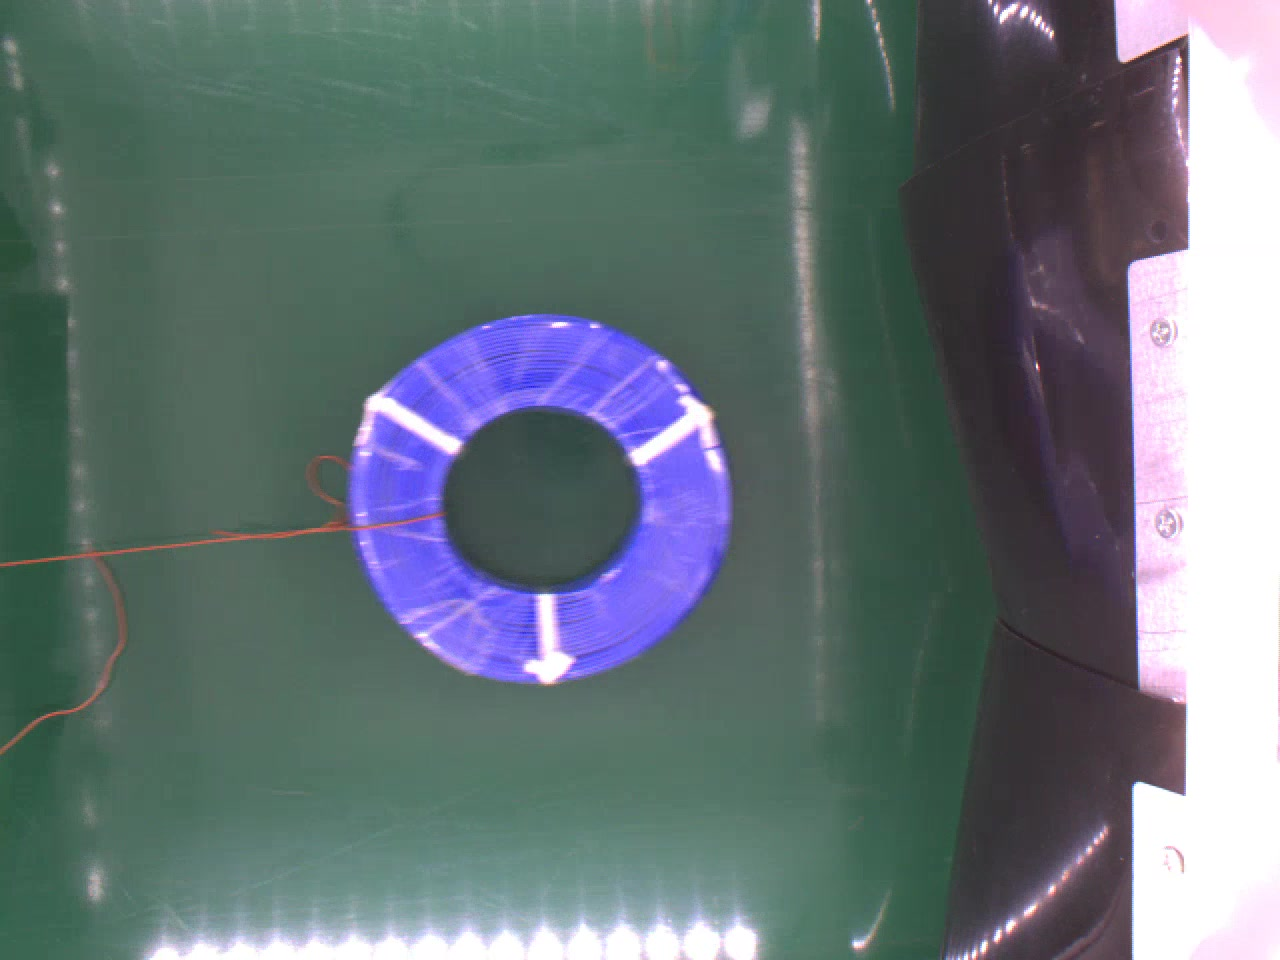blue: (349, 313, 741, 691)
